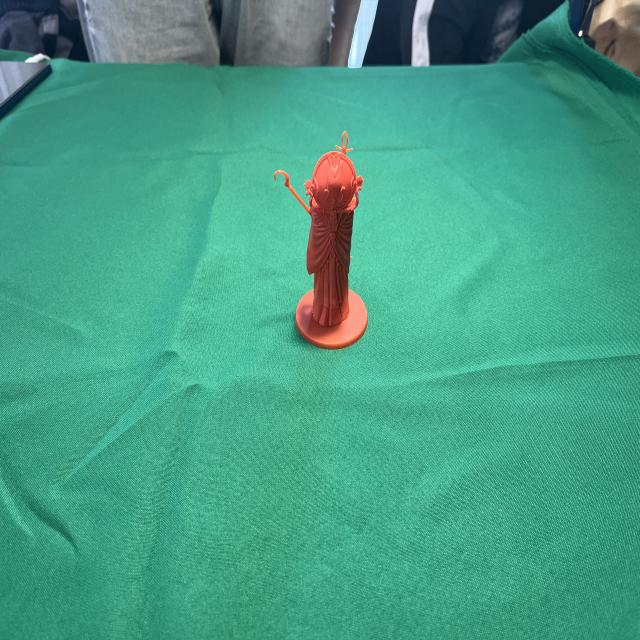amon: (271, 126, 373, 354)
